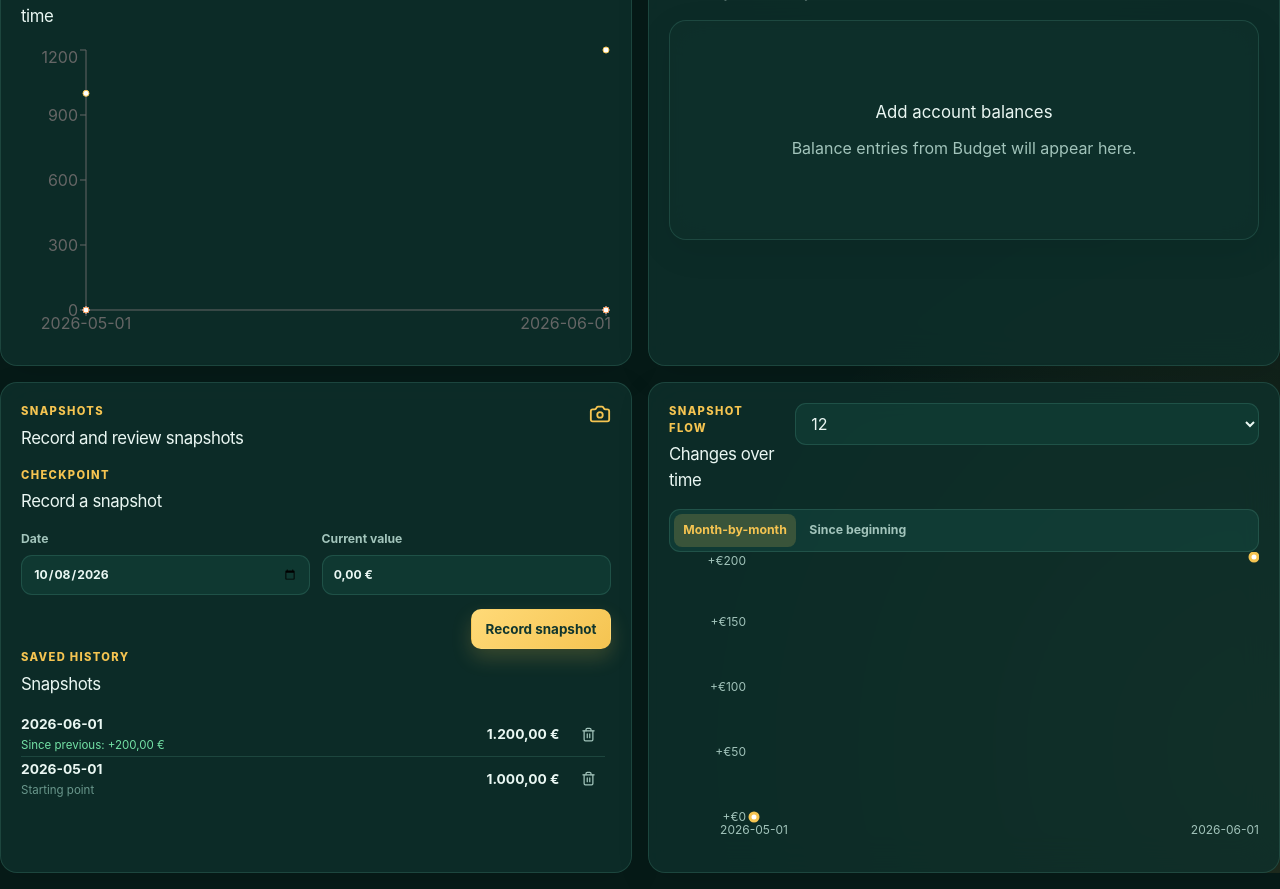
NetWorthScreen snapshot changes › defaults to month-by-month changes and supports changes from the beginning
The image size is (1280, 889).
(page scrolled)
Check: the heading "Changes over time" is shown, box [669,442,779,493]
Check: the heading "Record and review snapshots" is shown, box [21,426,243,451]
Click the button "Since beginning" at (858, 530), box [800,514,916,547]
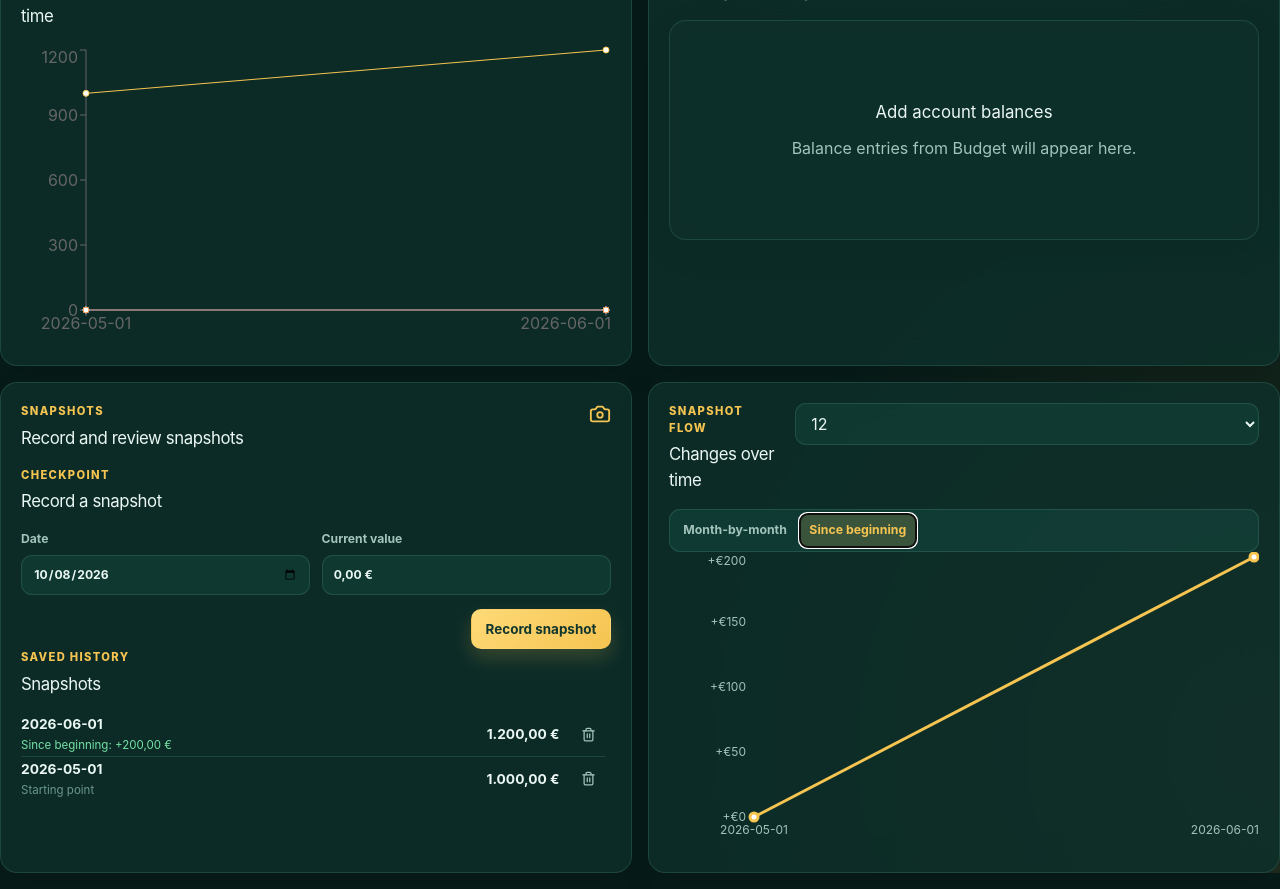
Check: the text "Since beginning: +200,00 €" is shown, box [21,738,172,752]
